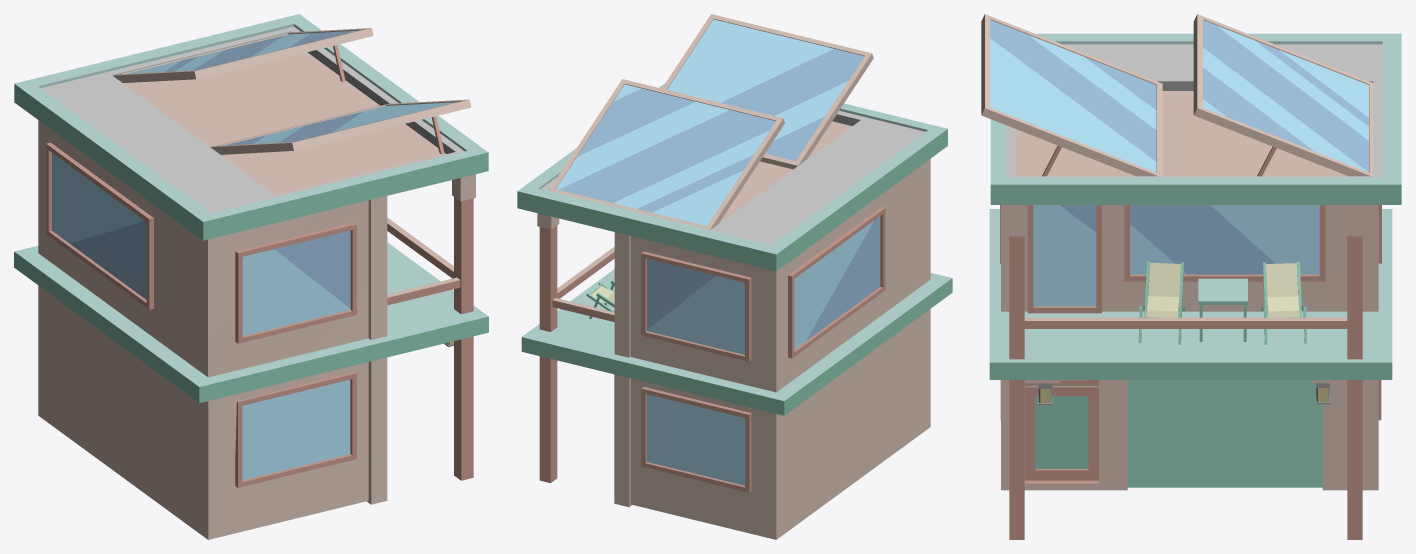
Rendered from House.fbx.
3 views of the same model, side by side, from view 1: azimuth 30°, elevation 25°; view 2: azimuth 150°, elevation 25°; view 3: azimuth 270°, elevation 25° (orthographic). The views are drawn at different scales.
Visible parts, largest first — view 1: House; view 2: House; view 3: House.
Boxes of the visible parts, left/top/right/bottom form: House: left=14, top=14, right=488, bottom=539; House: left=517, top=14, right=952, bottom=539; House: left=981, top=14, right=1401, bottom=539.
Bounding box in the file's own units: 283 × 364 × 327.
